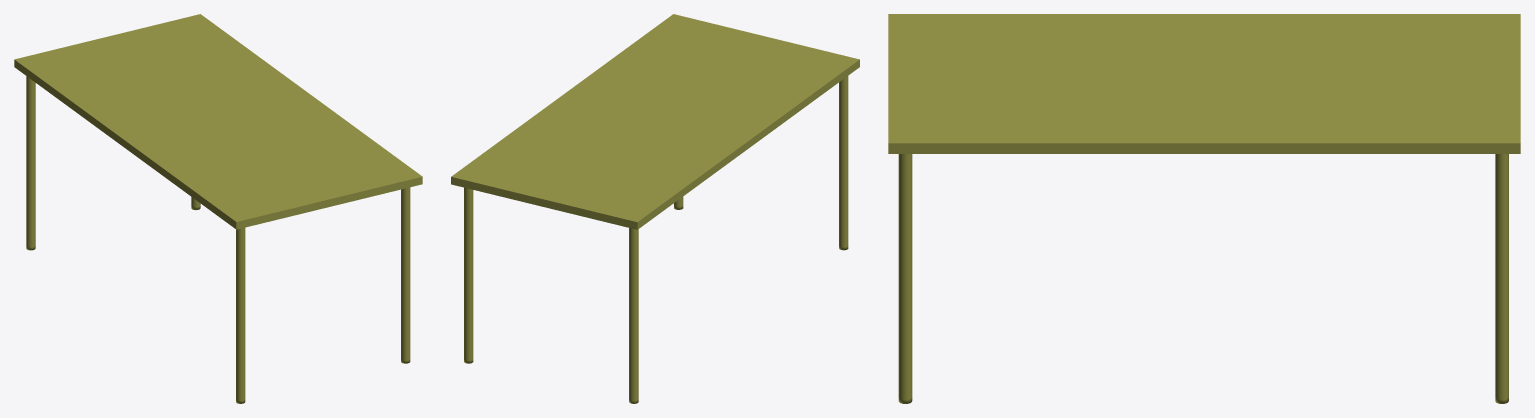
Rendered from Linnmon.fbx.
3 views of the same model, side by side, from view 1: azimuth 30°, elevation 25°; view 2: azimuth 150°, elevation 25°; view 3: azimuth 270°, elevation 25° (orthographic). The views are drawn at different scales.
Visible parts, largest first — view 1: LOW; view 2: LOW; view 3: LOW.
Part boxes in pixels (x1,y1,x2,y2): LOW: (14, 14, 422, 403); LOW: (451, 14, 859, 403); LOW: (888, 14, 1520, 403).
Size of the model in its own units: 180 by 172 by 371.
